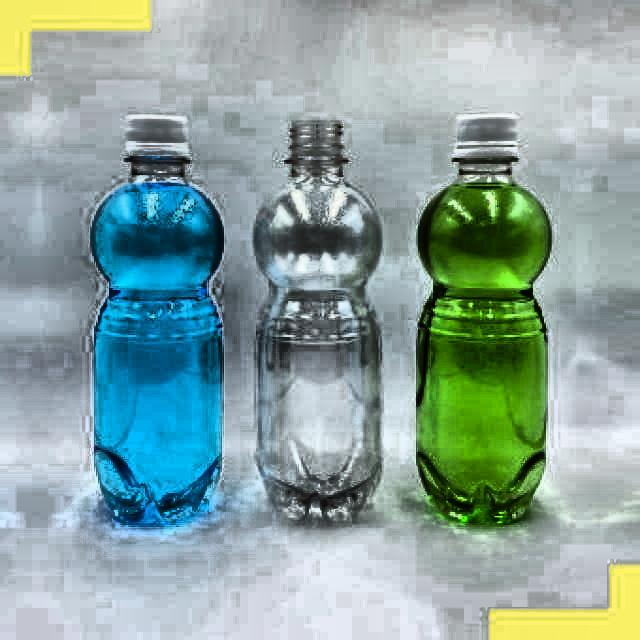plastic bottle: (417, 115, 553, 524), (91, 114, 223, 526), (255, 121, 381, 522)
